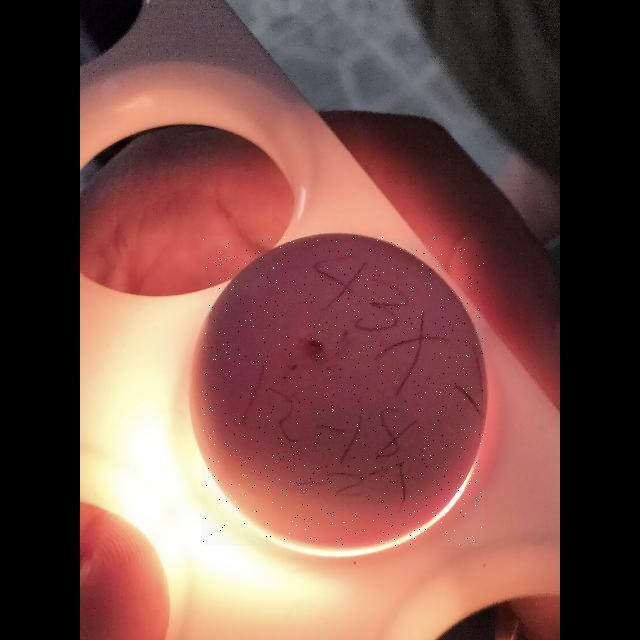B - Fair: (202, 236, 484, 546)
